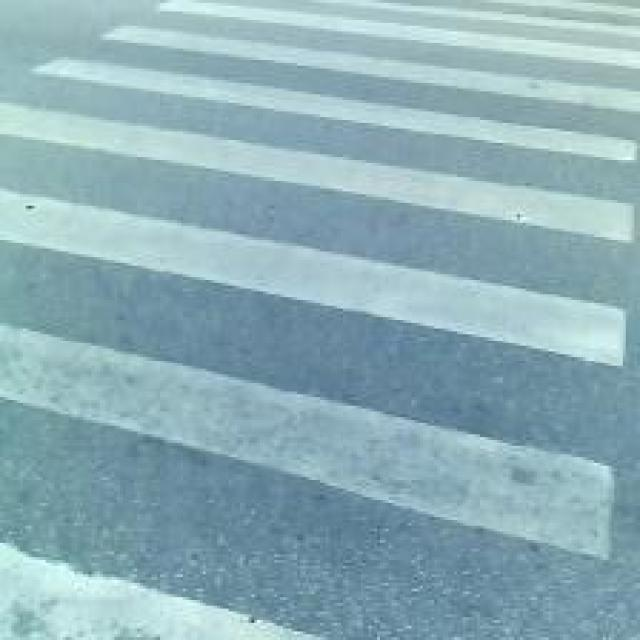walk-crossing: (143, 7, 562, 637)
